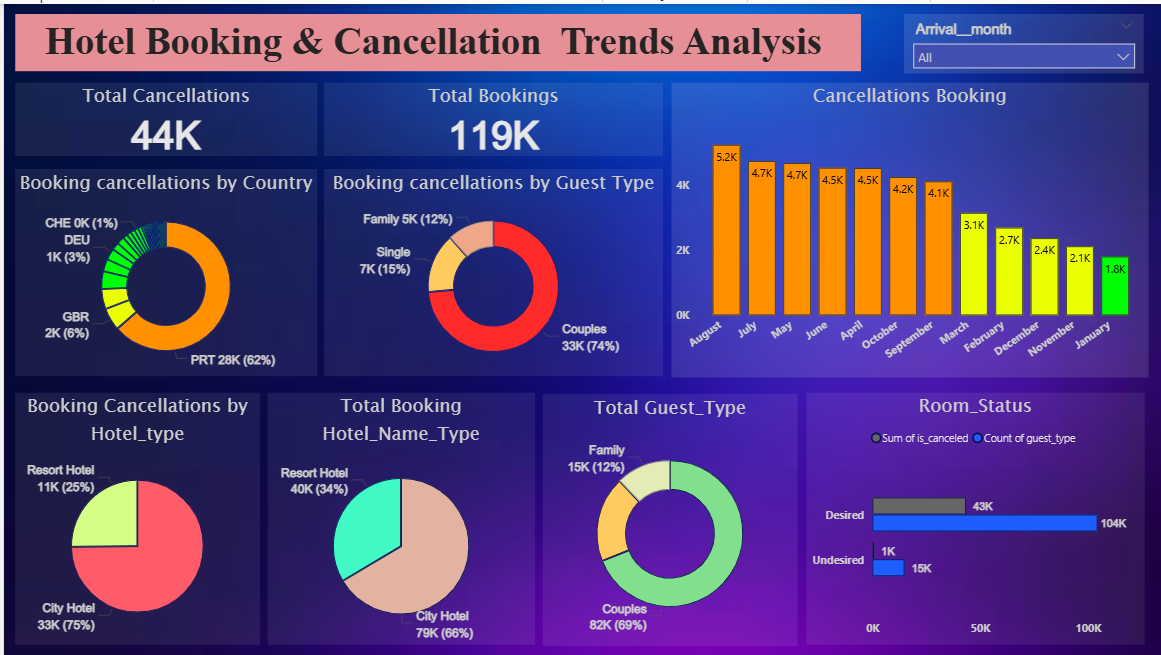

The dashboard page shown, as its layout file describes it:
{"tool":"powerbi","page":{"name":"Page 1","canvas":[1280,720],"ordinal":0},"visuals":[{"type":"textbox","box":[12.3,11,934.5,63.1],"z":0},{"type":"clusteredColumnChart","title":"Cancellations Booking ","fields":{"Category":["hotel_bookings (Autosaved) (3).arrival_data_month"],"Y":["Sum(hotel_bookings (Autosaved) (3).is_canceled)"]},"box":[736.9,86.4,526.9,325.2],"z":1000},{"type":"donutChart","title":"Booking cancellations by Guest Type","fields":{"Category":["hotel_bookings (Autosaved) (3).guest_type"],"Y":["Sum(hotel_bookings (Autosaved) (3).is_canceled)"]},"box":[354,182.5,374.6,229.2],"z":2000},{"type":"donutChart","title":"Total Guest_Type","fields":{"Category":["hotel_bookings (Autosaved) (3).guest_type"],"Y":["CountNonNull(hotel_bookings (Autosaved) (3).guest_type)"]},"box":[595.5,430.9,281.3,278.6],"z":3000},{"type":"slicer","fields":{"Values":["hotel_bookings (Autosaved) (3).arrival_data_month"]},"box":[994.9,11,264.8,65.9],"z":4000},{"type":"clusteredBarChart","title":" Room_Status","fields":{"Y":["Sum(hotel_bookings (Autosaved) (3).is_canceled)","CountNonNull(hotel_bookings (Autosaved) (3).guest_type)"],"Category":["hotel_bookings (Autosaved) (3).room_status"]},"box":[886.5,429.5,373.2,278.6],"z":5000},{"type":"pieChart","title":"Total Booking Hotel_Name_Type","fields":{"Category":["hotel_bookings (Autosaved) (3).hotel"],"Y":["CountNonNull(hotel_bookings (Autosaved) (3).guest_type)"]},"box":[290.9,429.5,295,278.6],"z":6000},{"type":"pieChart","title":"Booking Cancellations by Hotel_type","fields":{"Category":["hotel_bookings (Autosaved) (3).hotel"],"Y":["Sum(hotel_bookings (Autosaved) (3).is_canceled)"]},"box":[12.3,429.5,270.3,278.6],"z":7000},{"type":"card","title":"Total  Cancellations","fields":{"Values":["Sum(hotel_bookings (Autosaved) (3).is_canceled)"]},"box":[12.3,86.4,333.4,81],"z":8000},{"type":"card","title":"Total Bookings ","fields":{"Values":["CountNonNull(hotel_bookings (Autosaved) (3).guest_type)"]},"box":[354,86.4,374.6,81],"z":9000},{"type":"donutChart","title":"Booking cancellations by Country","fields":{"Y":["Sum(hotel_bookings (Autosaved) (3).is_canceled)"],"Category":["hotel_bookings (Autosaved) (3).country"]},"box":[12.3,182.5,333.4,229.2],"z":10000}]}

Visuals, with their boxes in screenshot pixels (x1, y1, x2, y2), scaled from the page's 1280x720 canvas onto the 1161x655 screenshot:
textbox: bbox=(11, 10, 859, 67)
"Cancellations Booking " clusteredColumnChart: bbox=(668, 79, 1146, 374)
"Booking cancellations by Guest Type" donutChart: bbox=(321, 166, 661, 375)
"Total Guest_Type" donutChart: bbox=(540, 392, 795, 645)
slicer - hotel_bookings (Autosaved) (3).arrival_data_month: bbox=(902, 10, 1143, 70)
" Room_Status" clusteredBarChart: bbox=(804, 391, 1143, 644)
"Total Booking Hotel_Name_Type" pieChart: bbox=(264, 391, 531, 644)
"Booking Cancellations by Hotel_type" pieChart: bbox=(11, 391, 256, 644)
"Total  Cancellations" card: bbox=(11, 79, 314, 152)
"Total Bookings " card: bbox=(321, 79, 661, 152)
"Booking cancellations by Country" donutChart: bbox=(11, 166, 314, 375)
